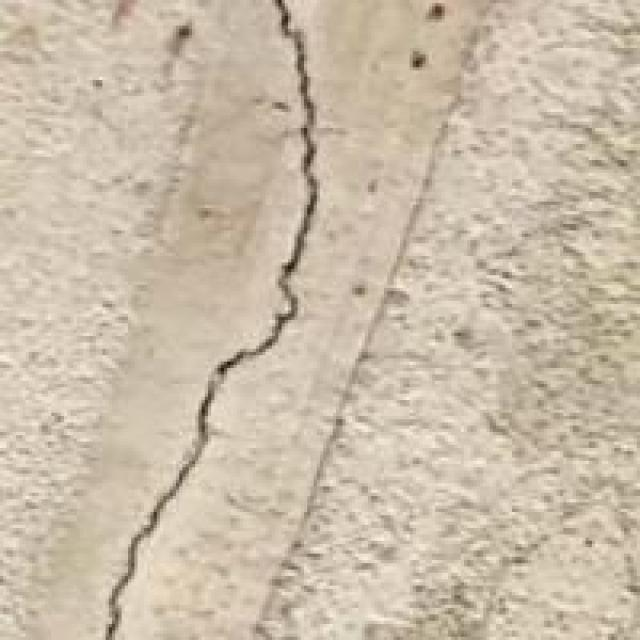crack: (64, 0, 358, 637)
